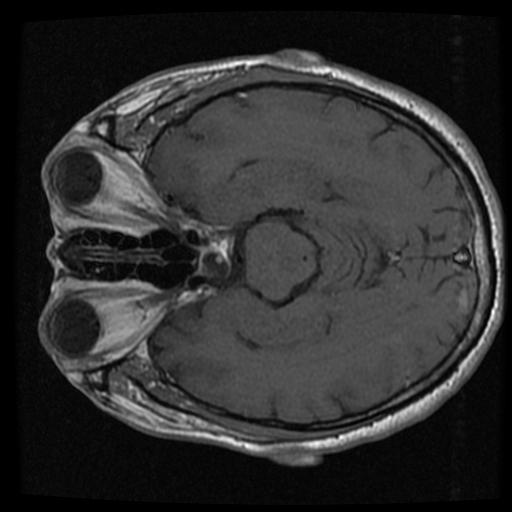pituitary tumour: (197, 242, 232, 285)
